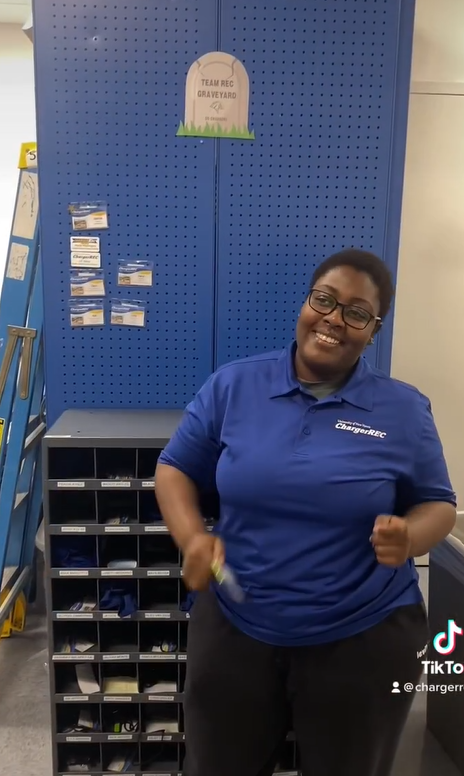Staff: (258, 249, 422, 473)
